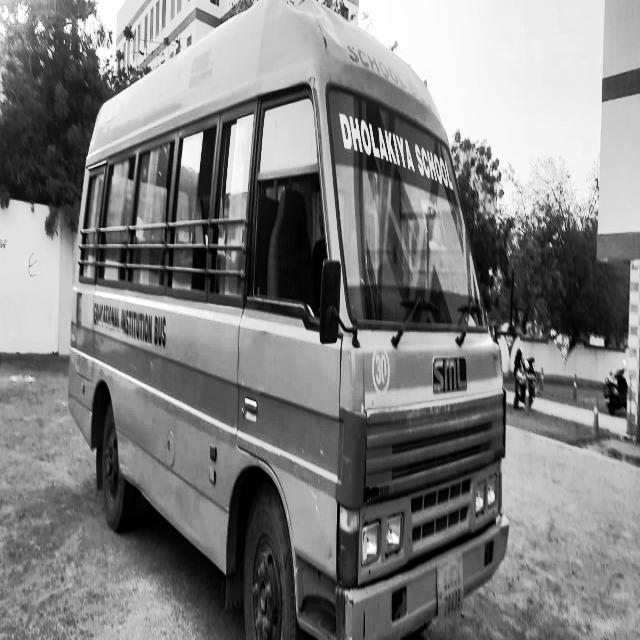Bus: (63, 31, 516, 628)
